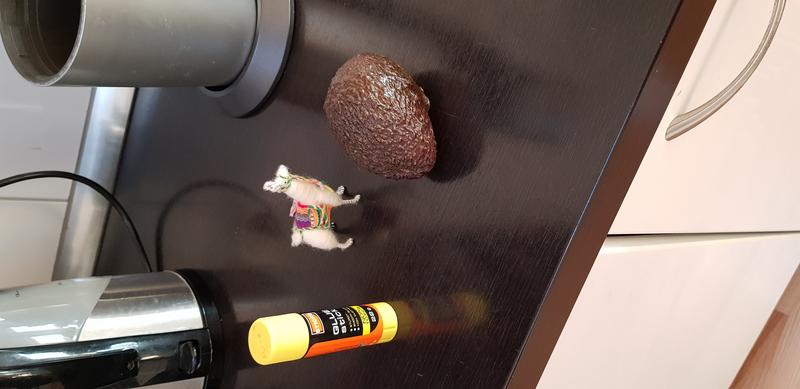Avocado: (319, 51, 448, 186)
Glue-Stick: (239, 299, 409, 366)
Horse-Toy: (255, 163, 367, 260)
